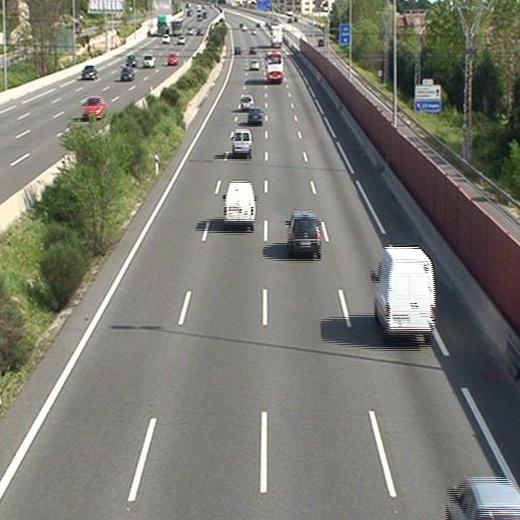bus: (265, 53, 284, 83)
car: (284, 214, 321, 258), (248, 108, 263, 125), (239, 94, 253, 111), (249, 59, 261, 71)
van: (370, 248, 435, 342), (224, 183, 257, 228), (230, 130, 252, 156)
